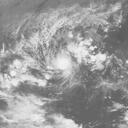cyclone: (43, 38, 103, 85)
